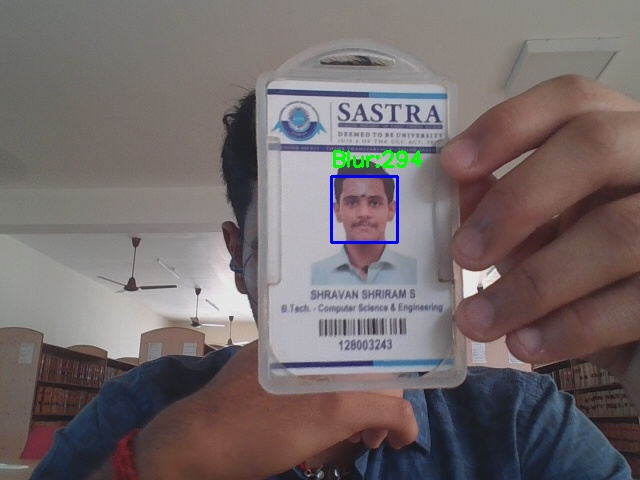fake: (331, 176, 397, 242)
